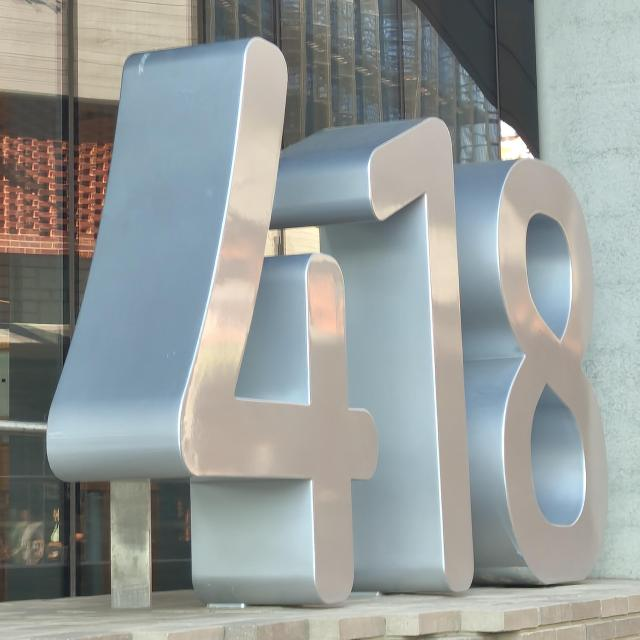character: (166, 29, 383, 610), (361, 112, 482, 598), (495, 150, 612, 589)
